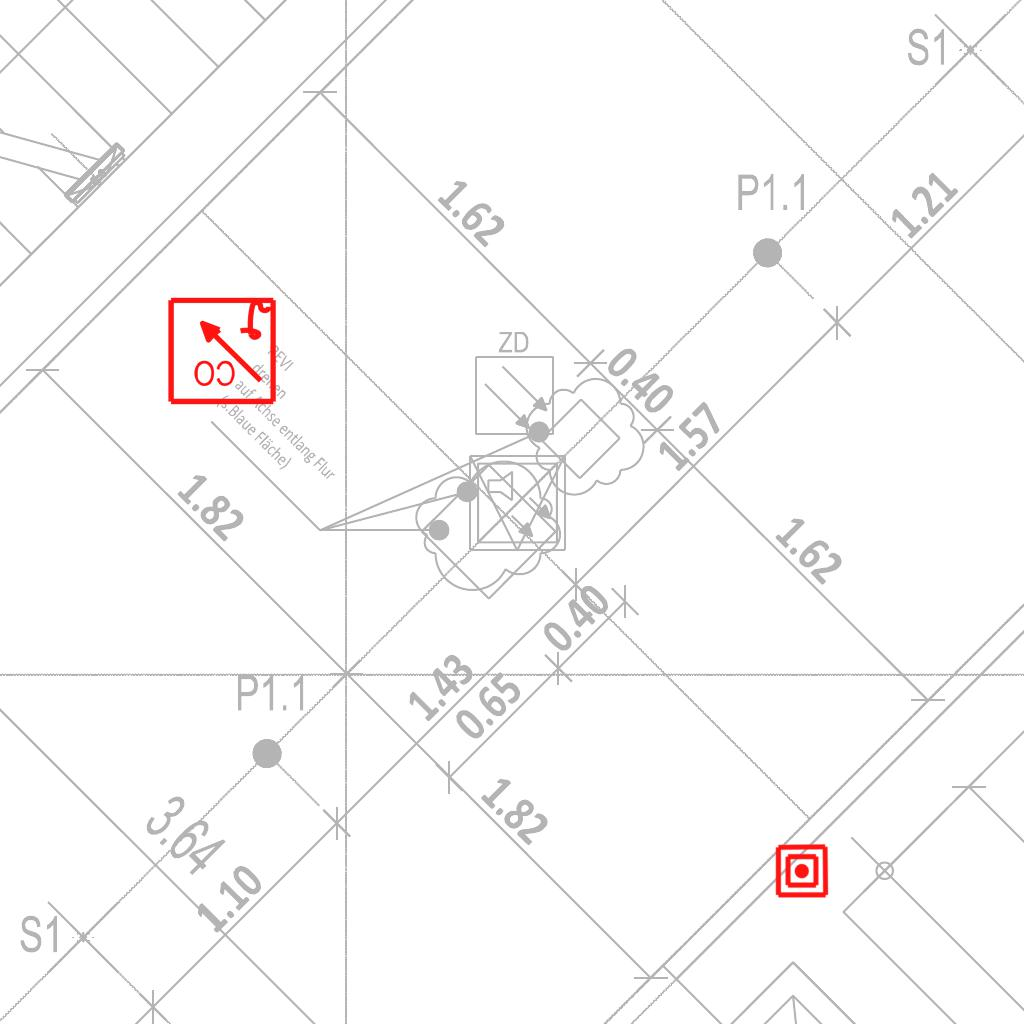NAM-Nichtautomatischer_Melder: (774, 843, 830, 899)
ROA_Rauchmelder_optisch_mit_Signalgeber_(Sockelsirene): (165, 293, 278, 406)
